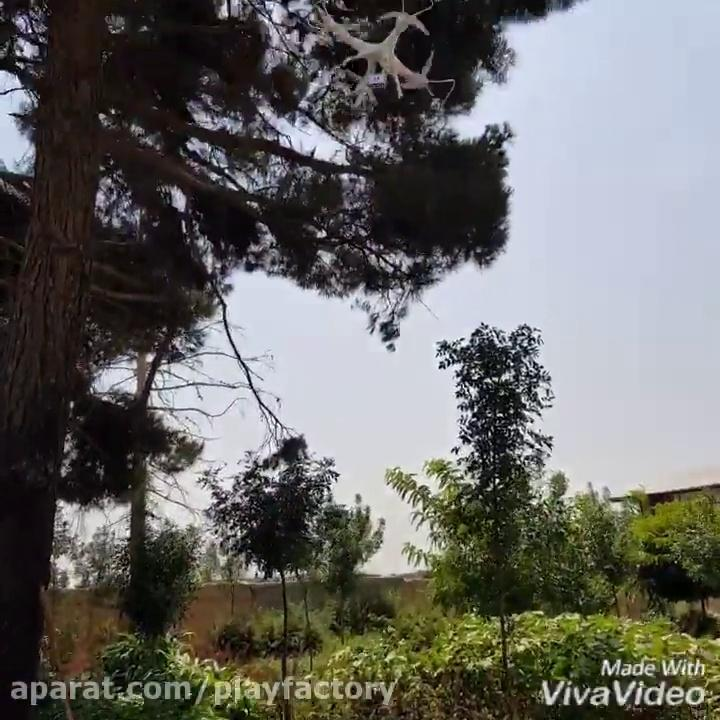drone: (302, 0, 457, 108)
